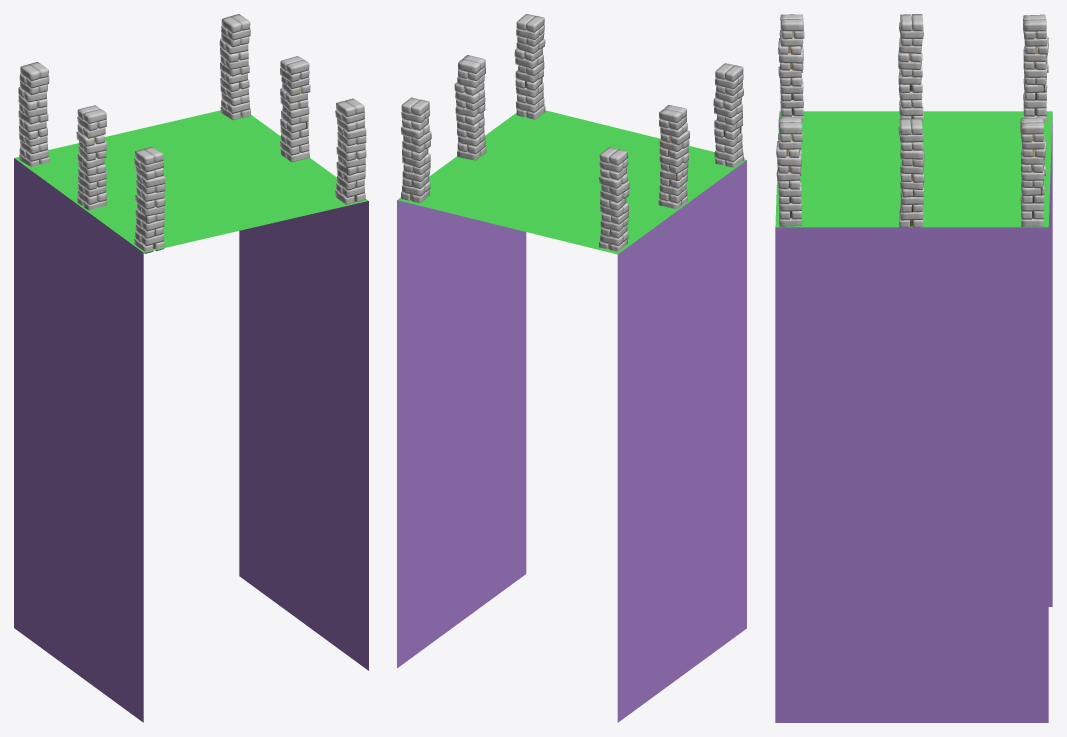
The model's file is HallWayStraight_3.fbx.
3 renders of one model, left to right at view 1: azimuth 30°, elevation 25°; view 2: azimuth 150°, elevation 25°; view 3: azimuth 270°, elevation 25°, orthographic. The views are drawn at different scales.
Parts seen in each view (by area): view 1: HallWayStraight_3; view 2: HallWayStraight_3; view 3: HallWayStraight_3.
Boxes of the visible parts, bbox=[...] form: HallWayStraight_3: bbox=[14, 14, 368, 722]; HallWayStraight_3: bbox=[397, 14, 746, 722]; HallWayStraight_3: bbox=[775, 14, 1052, 722].
Bounding box in the file's own units: 402 × 961 × 406.
